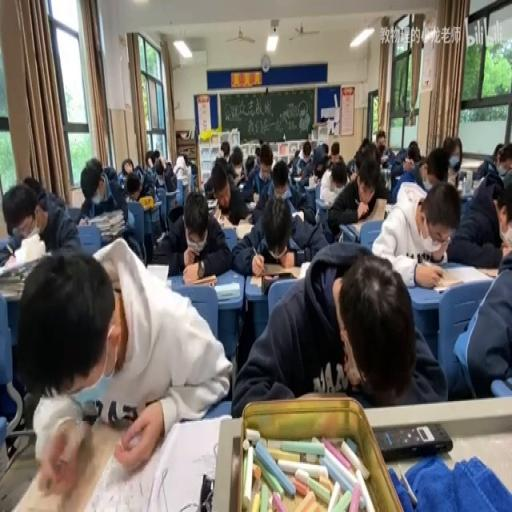calculator: (0, 258, 42, 298), (440, 263, 494, 286), (260, 263, 302, 279), (344, 216, 366, 238), (214, 282, 240, 300), (146, 262, 168, 282), (183, 272, 215, 284), (236, 222, 254, 240), (297, 260, 312, 279), (0, 245, 13, 266), (318, 195, 334, 209), (212, 205, 224, 222), (249, 273, 262, 286), (204, 196, 218, 208), (470, 176, 482, 190), (293, 208, 303, 222), (155, 230, 165, 244), (78, 214, 92, 224), (245, 200, 256, 212), (178, 174, 190, 184), (308, 175, 316, 188), (292, 170, 302, 180), (150, 198, 162, 206), (384, 206, 391, 219)
paper: (24, 234, 229, 490), (234, 242, 442, 416), (373, 176, 459, 283), (454, 248, 512, 400), (444, 162, 509, 266), (158, 186, 230, 279), (2, 178, 80, 257), (326, 145, 390, 238), (78, 158, 128, 233), (257, 155, 299, 219), (419, 145, 450, 192), (203, 150, 232, 196), (296, 141, 326, 185), (224, 184, 250, 224), (472, 148, 498, 179), (442, 135, 462, 174), (138, 152, 157, 185), (388, 150, 406, 184), (158, 160, 176, 190), (125, 174, 143, 200), (22, 174, 42, 196), (374, 128, 387, 161), (330, 165, 346, 188), (406, 139, 420, 161), (259, 145, 272, 168), (88, 158, 102, 178), (218, 139, 230, 161), (492, 142, 504, 161), (244, 154, 254, 176), (187, 159, 197, 181), (346, 158, 357, 178), (122, 158, 134, 176), (231, 155, 242, 172), (330, 142, 340, 160), (273, 181, 285, 196), (152, 148, 161, 166), (384, 145, 394, 161), (359, 136, 369, 150), (235, 174, 245, 188), (302, 144, 310, 160), (181, 154, 190, 168), (254, 144, 261, 160), (118, 170, 124, 188), (322, 142, 329, 156), (288, 156, 294, 170), (156, 175, 163, 183), (294, 148, 299, 158)
person: (374, 420, 451, 460), (198, 474, 213, 509)
